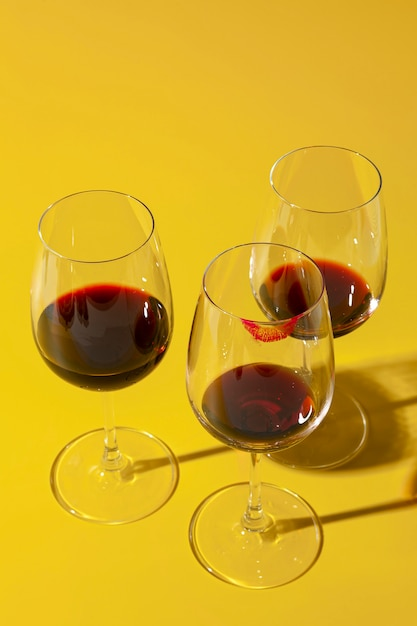alcohol: (186, 239, 336, 594), (29, 189, 181, 528), (247, 137, 389, 478)
